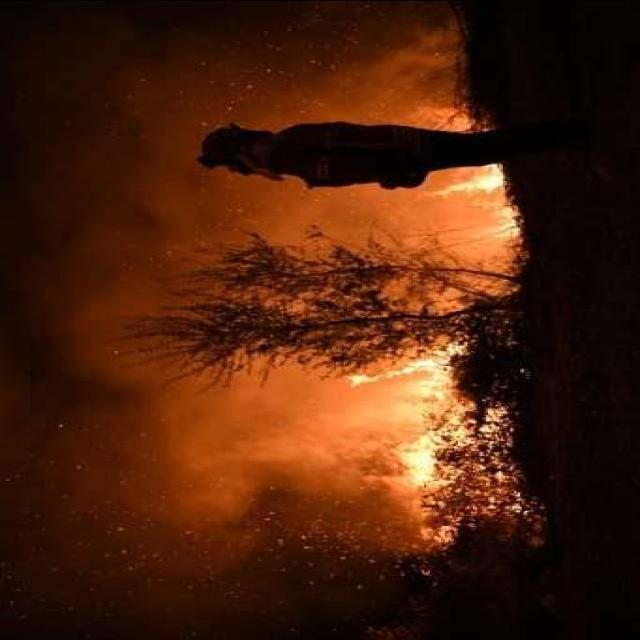Fire: (342, 344, 510, 545), (436, 118, 522, 244)
